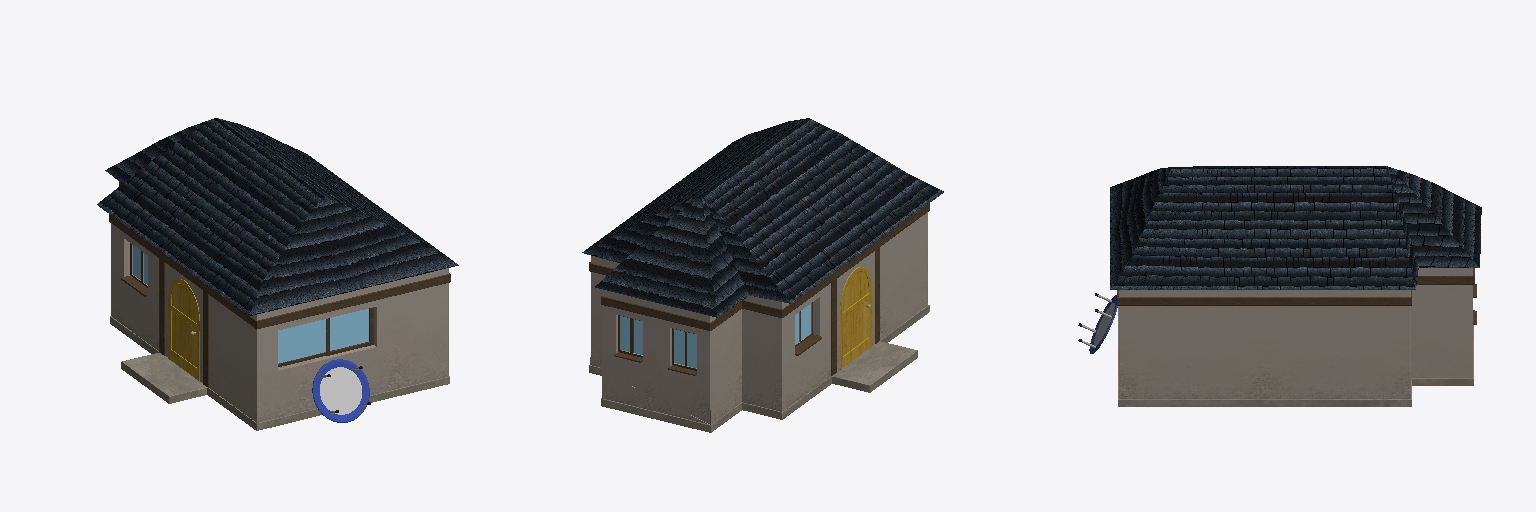
The picture shows the model from 3 angles: view 1: azimuth 30°, elevation 25°; view 2: azimuth 150°, elevation 25°; view 3: azimuth 270°, elevation 25°; orthographic projection.
Visible parts, largest first — view 1: Cube, Cylinder.002_Cylinder.005; view 2: Cube; view 3: Cube, Cylinder.002_Cylinder.005.
Part boxes in pixels (x1,y1,x2,y2): Cube: (97, 118, 458, 430); Cylinder.002_Cylinder.005: (312, 359, 370, 422); Cube: (582, 118, 943, 432); Cube: (1110, 166, 1481, 406); Cylinder.002_Cylinder.005: (1078, 293, 1117, 353).
Size of the model in its own units: 5.67 by 4.41 by 8.37.
11 materials, 10 textured.